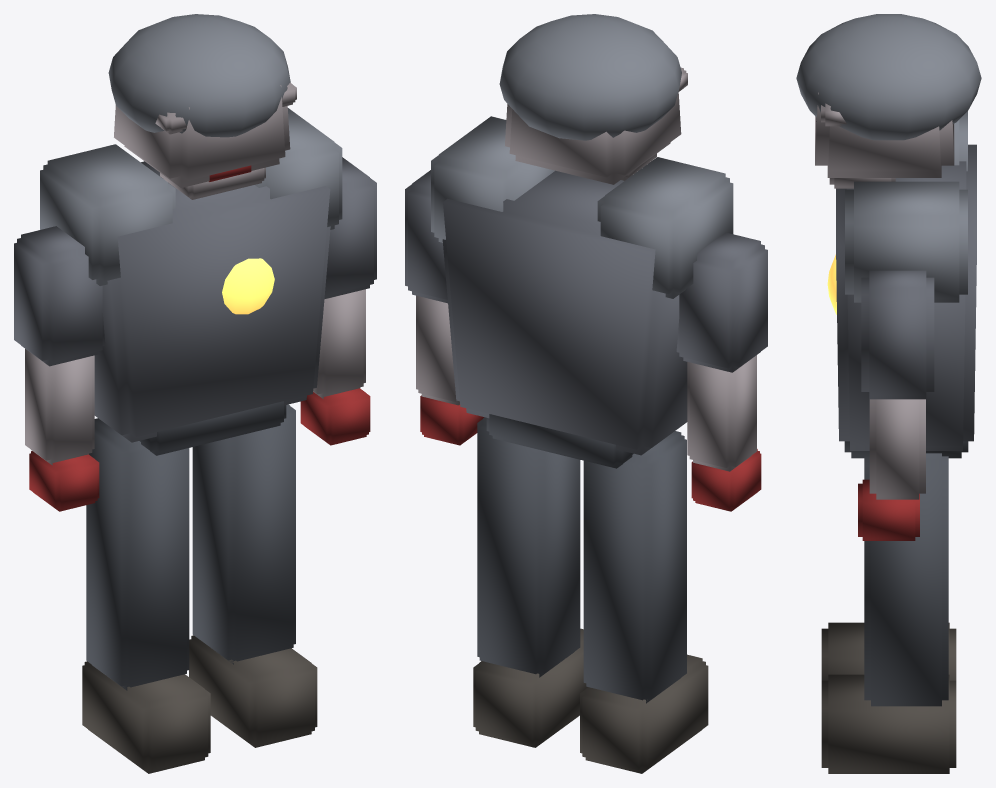
File: zombie-brute.glb
3 views of the same model, side by side, from view 1: azimuth 30°, elevation 25°; view 2: azimuth 150°, elevation 25°; view 3: azimuth 270°, elevation 25° (orthographic).
Parts seen in each view (by area): view 1: Torso, Leg_L, Leg_R, Head, Arm_L, Arm_R, Jaw; view 2: Torso, Leg_L, Leg_R, Head, Arm_L, Arm_R; view 3: Torso, Leg_R, Head, Arm_R, Leg_L, Jaw.
Part boxes in pixels (x1=…): Torso: x1=40, y1=108, x2=342, y2=455; Leg_L: x1=82, y1=418, x2=210, y2=773; Leg_R: x1=189, y1=404, x2=317, y2=747; Head: x1=108, y1=14, x2=296, y2=187; Arm_L: x1=14, y1=226, x2=105, y2=511; Arm_R: x1=300, y1=157, x2=376, y2=445; Jaw: x1=160, y1=165, x2=265, y2=199; Torso: x1=431, y1=116, x2=733, y2=468; Leg_L: x1=580, y1=431, x2=708, y2=773; Leg_R: x1=473, y1=417, x2=587, y2=747; Head: x1=499, y1=14, x2=687, y2=184; Arm_L: x1=676, y1=232, x2=767, y2=511; Arm_R: x1=405, y1=170, x2=484, y2=445; Torso: x1=827, y1=111, x2=976, y2=458; Leg_R: x1=821, y1=453, x2=956, y2=773; Head: x1=796, y1=14, x2=981, y2=177; Arm_R: x1=858, y1=270, x2=934, y2=540; Leg_L: x1=821, y1=622, x2=956, y2=680; Jaw: x1=829, y1=178, x2=895, y2=188.
Size of the model in its own units: 1.22 by 2.46 by 0.5829.
